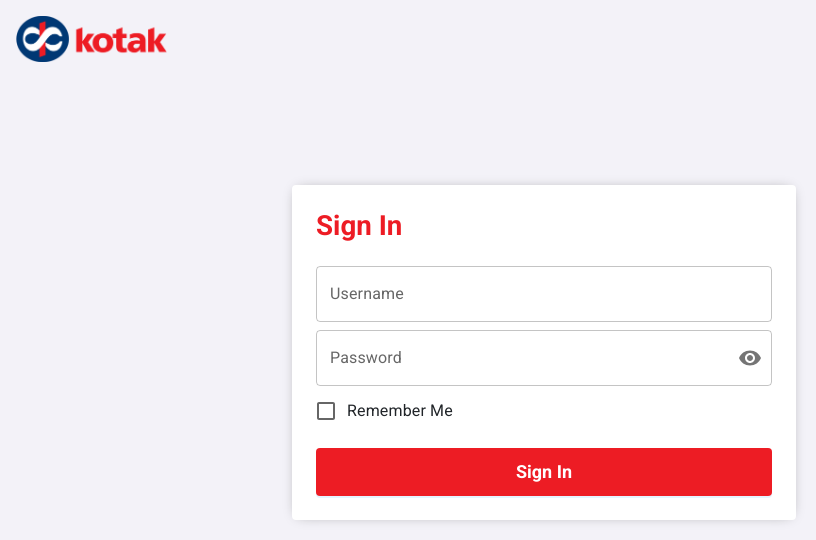
Test: Show Password Functionality Check
The width and height of the screenshot is (816, 540).
Type "KXT75648_Password" into the password field with placeholder "Enter your password".
click(519, 358); type("KXT75648_Password")  # box 316,330 -> 722,386
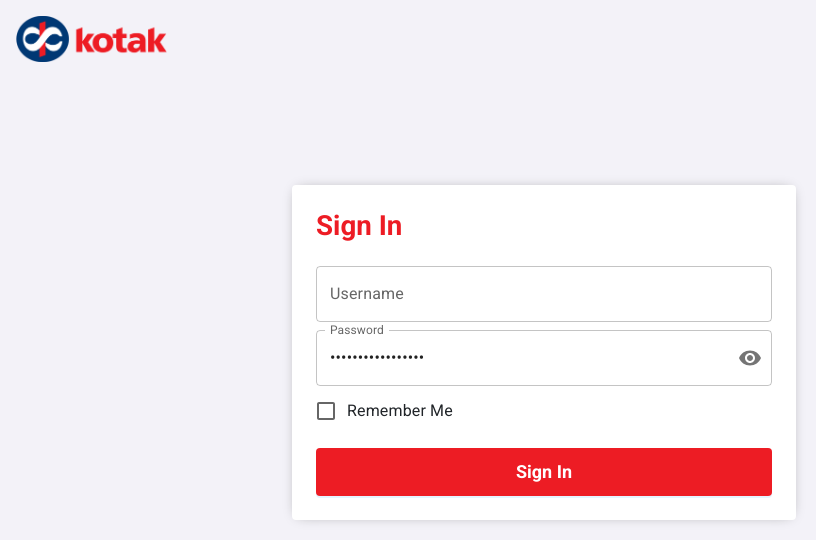
Click the button with test id "show-password-icon".
click(750, 358)  # box 730,338 -> 770,378
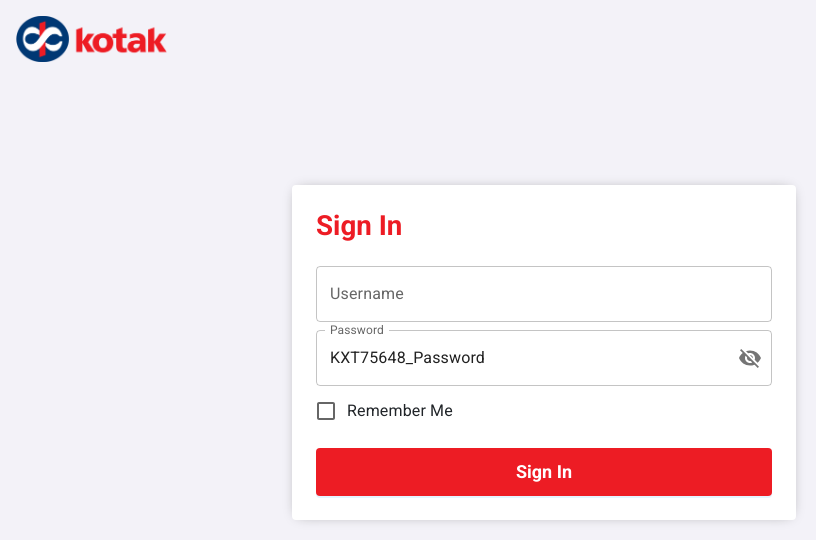
Result: the 2nd field shows its text at 316,330 -> 722,386
Click the button with test id "show-password-icon".
click(750, 358)  # box 730,338 -> 770,378
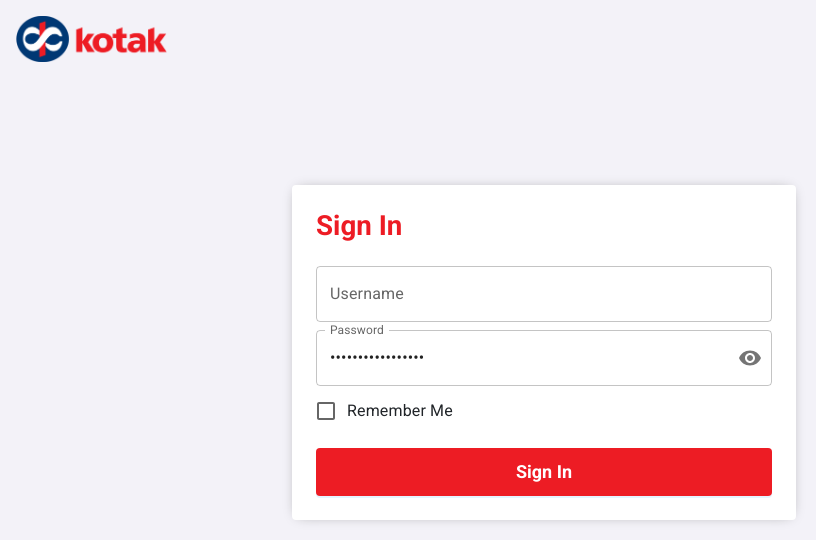
Result: the password field hides its text at 316,330 -> 722,386
